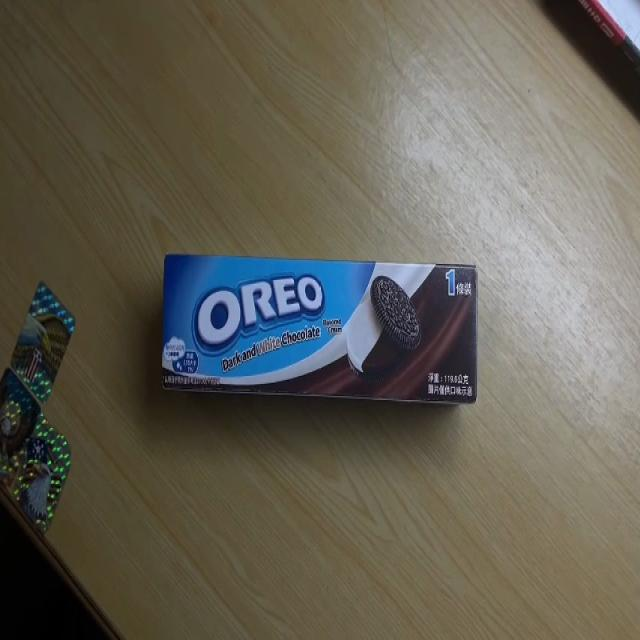Oreo: (160, 255, 478, 404)
